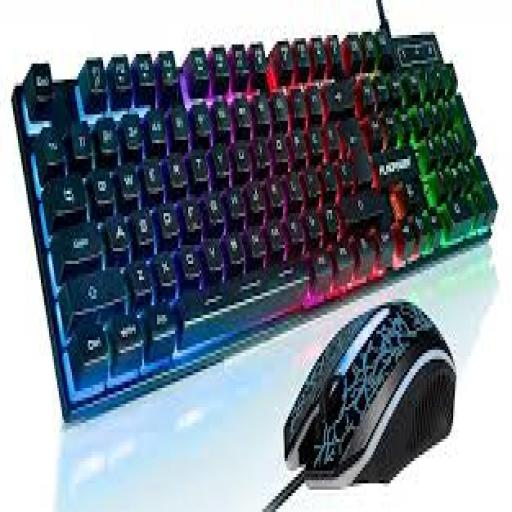keyboard: (13, 29, 496, 420)
